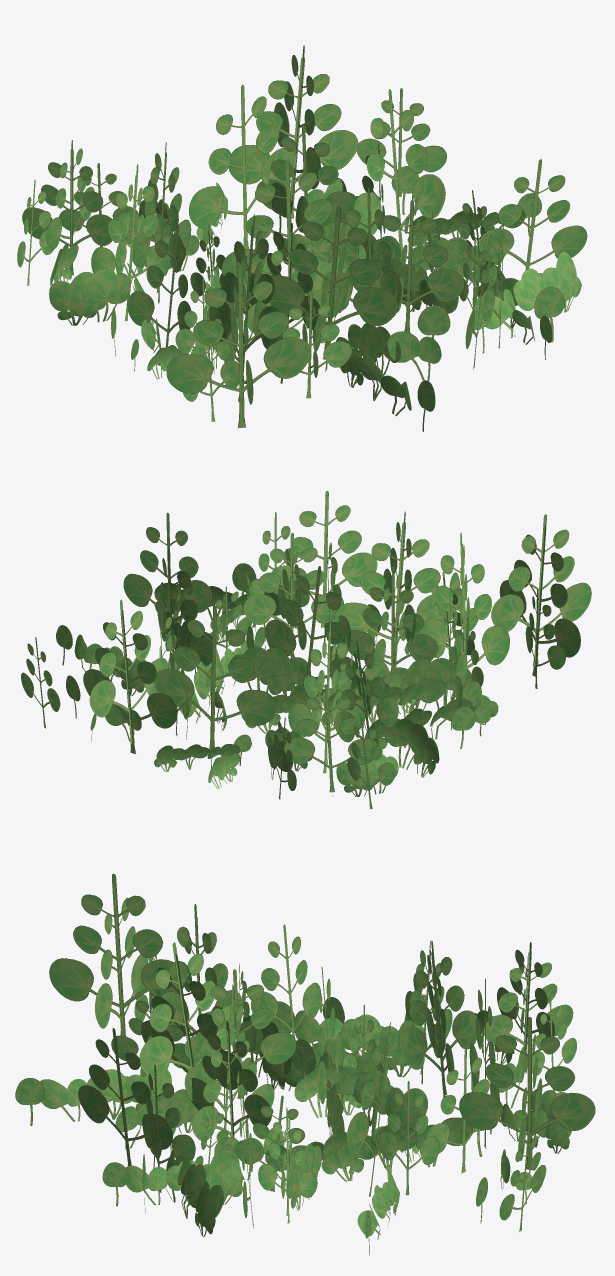
The model's file is LeafSetH_14.fbx.
3 views of the same model, one above another, from view 1: azimuth 30°, elevation 25°; view 2: azimuth 150°, elevation 25°; view 3: azimuth 270°, elevation 25° (orthographic). The views are drawn at different scales.
Parts seen in each view (by area): view 1: LeafSetH_14; view 2: LeafSetH_14; view 3: LeafSetH_14.
Part boxes in pixels (x1,y1,x2,y2): LeafSetH_14: (17,45,587,431); LeafSetH_14: (21,491,591,808); LeafSetH_14: (15,873,595,1255).
Bounding box in the file's own units: 2.56 × 1.01 × 2.64.
